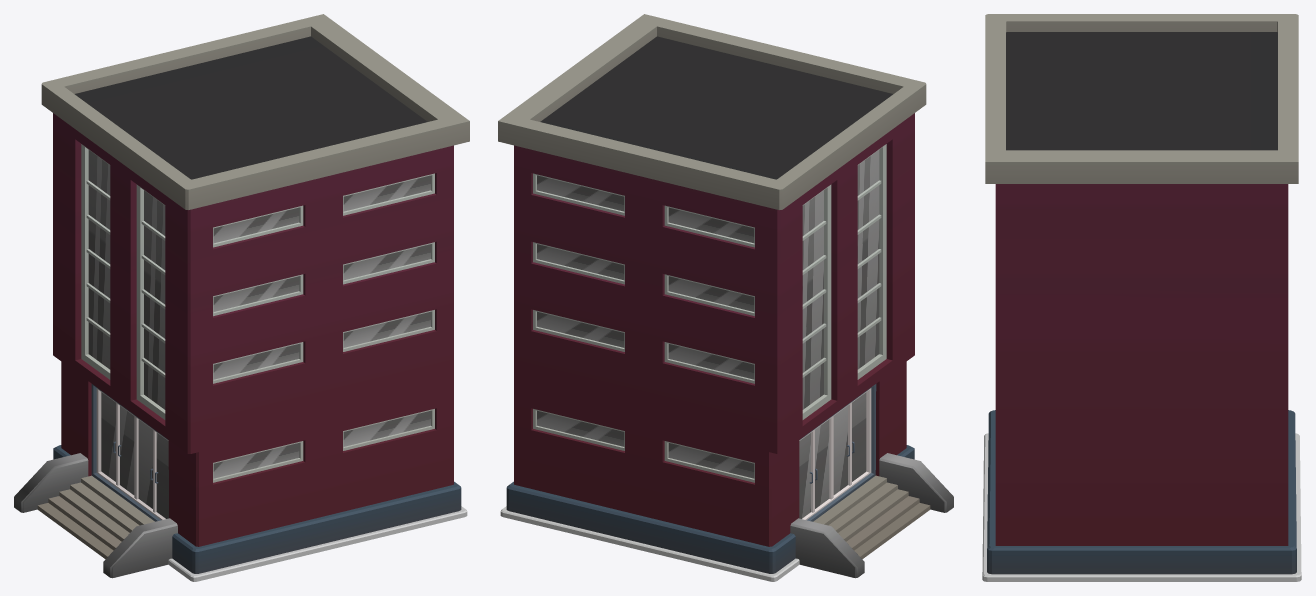
Rendered from Building_26_K.fbx.
3 views of the same model, side by side, from view 1: azimuth 30°, elevation 25°; view 2: azimuth 150°, elevation 25°; view 3: azimuth 270°, elevation 25° (orthographic). The views are drawn at different scales.
Visible parts, largest first — view 1: Building_26_K; view 2: Building_26_K; view 3: Building_26_K.
Boxes of the visible parts, <box> form: Building_26_K: <box>14,14,469,581</box>; Building_26_K: <box>498,14,953,581</box>; Building_26_K: <box>982,14,1301,581</box>.
Bounding box in the file's own units: 923 × 1037 × 712.
